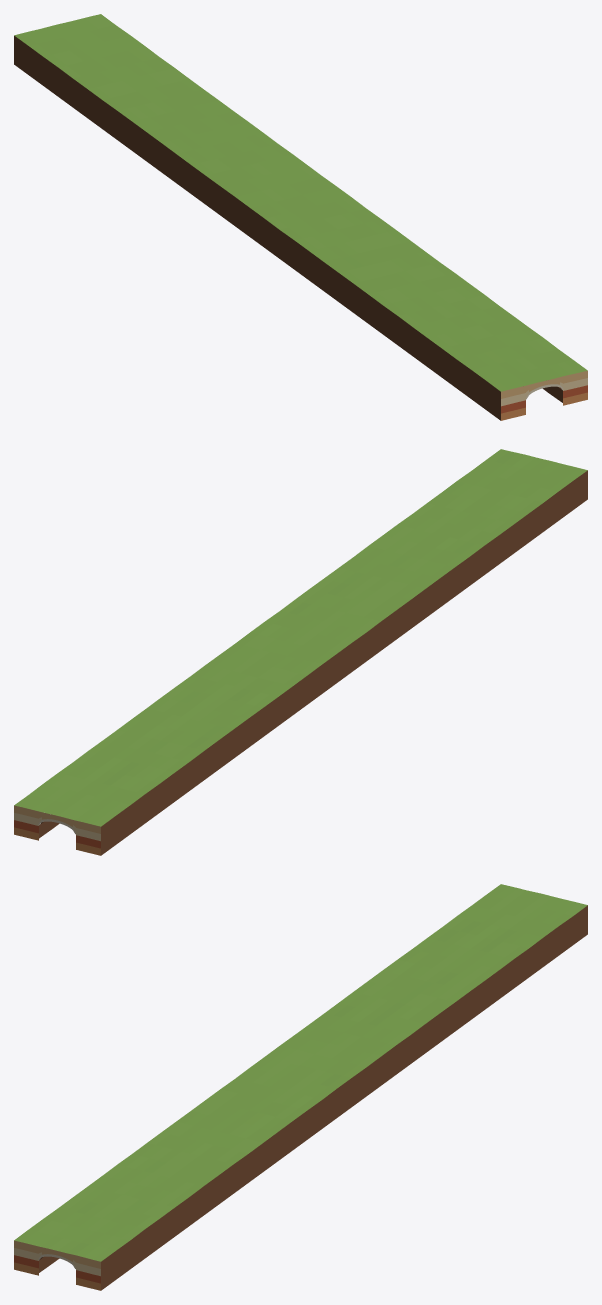
File: tunel_16f2.glb
3 renders of one model, top to bottom at view 1: azimuth 30°, elevation 25°; view 2: azimuth 150°, elevation 25°; view 3: azimuth 330°, elevation 25°, orthographic.
Visible parts, largest first — view 1: tunel_16f2; view 2: tunel_16f2; view 3: tunel_16f2.
Part boxes in pixels (bbox=[...]): tunel_16f2: bbox=[14, 14, 587, 420]; tunel_16f2: bbox=[14, 449, 587, 855]; tunel_16f2: bbox=[14, 884, 587, 1290].
Bounding box in the file's own units: 84 × 27.27 × 816.
